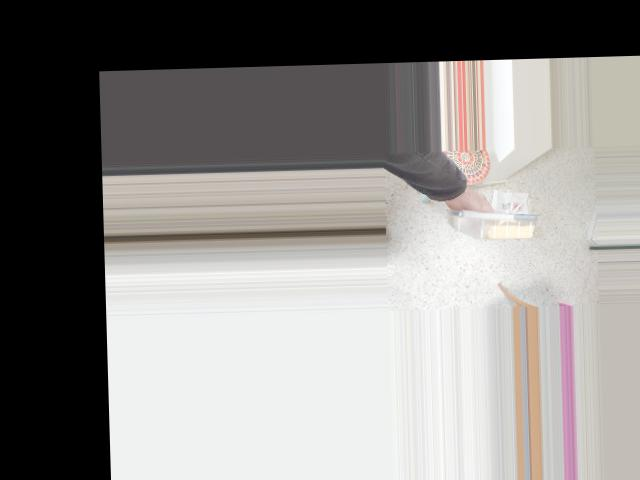cheese: (451, 189, 539, 251)
